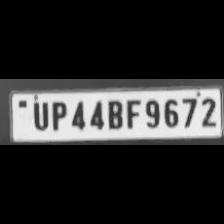2: (196, 95, 218, 129)
4: (86, 97, 104, 131), (68, 97, 86, 130)
6: (160, 96, 178, 128)
7: (178, 95, 196, 129)
9: (142, 96, 160, 128)
B: (104, 96, 124, 130)
F: (124, 96, 140, 130)
P: (48, 99, 68, 131)
U: (28, 99, 50, 131)
